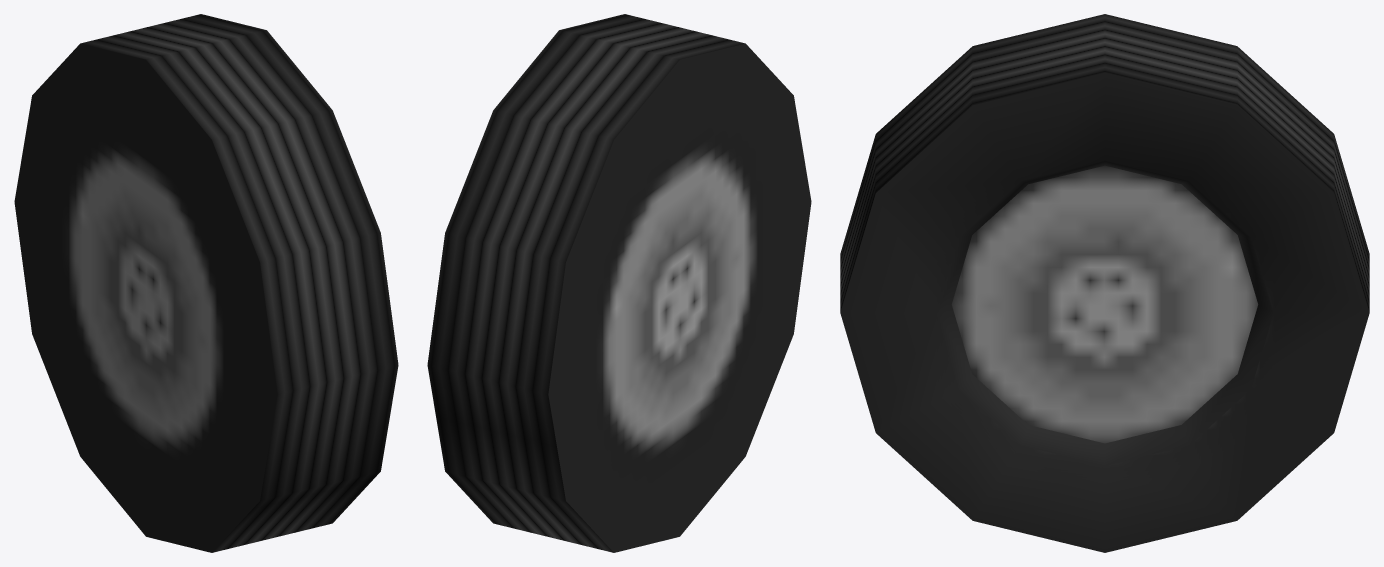
File: Wheel_Hand.fbx
3 views of the same model, side by side, from view 1: azimuth 30°, elevation 25°; view 2: azimuth 150°, elevation 25°; view 3: azimuth 270°, elevation 25° (orthographic).
Parts seen in each view (by area): view 1: Wheel; view 2: Wheel; view 3: Wheel.
Boxes of the visible parts, x1,y1,x2,y2 form: Wheel: (14,14,398,552); Wheel: (427,14,811,552); Wheel: (840,14,1369,552).
Bounding box in the file's own units: 0.1058 × 0.399 × 0.399.
